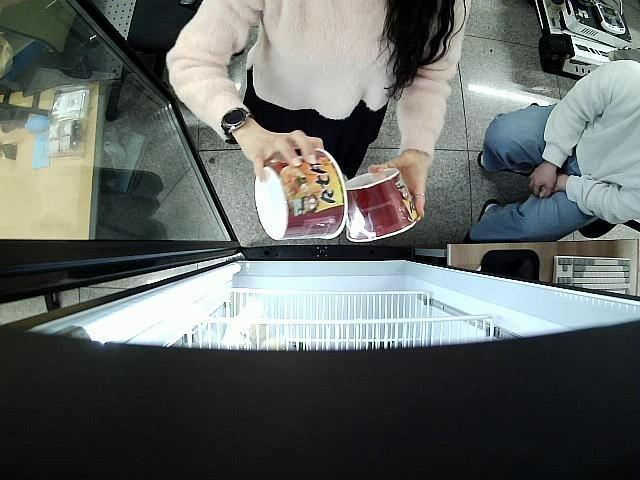05_nuguri_L: (252, 144, 347, 240), (348, 170, 421, 244)
